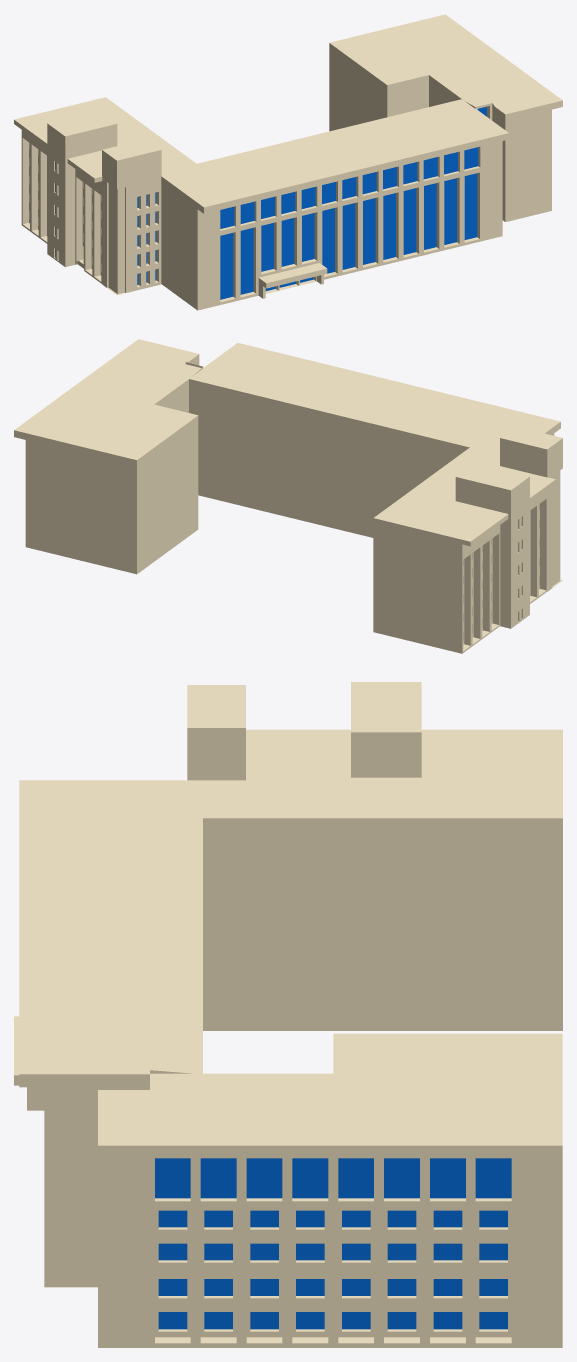
The model's file is 제2공학관.fbx.
3 renders of one model, top to bottom at view 1: azimuth 30°, elevation 25°; view 2: azimuth 150°, elevation 25°; view 3: azimuth 270°, elevation 25°, orthographic. The views are drawn at different scales.
Parts seen in each view (by area): view 1: Cube_8, Cube, Cube_1, Cube_54, Cube_2; view 2: Cube_8, Cube, Cube_1, Cube_2; view 3: Cube, Cube_1, Cube_8, Cube_90, Cube_2.
Boxes of the visible parts, x1,y1,x2,y2 form: Cube_8: (161,99,508,310); Cube: (329,14,562,221); Cube_1: (14,97,197,283); Cube_54: (220,147,478,299); Cube_2: (102,139,161,295); Cube_8: (189,343,560,537); Cube: (14,339,203,574); Cube_1: (373,447,555,653); Cube_2: (500,426,562,591); Cube: (98,1033,562,1347); Cube_1: (198,682,562,1030); Cube_8: (14,780,202,1287); Cube_90: (155,1158,511,1329); Cube_2: (187,685,245,780).
Bounding box in the file's own units: 1386 × 413 × 769.
